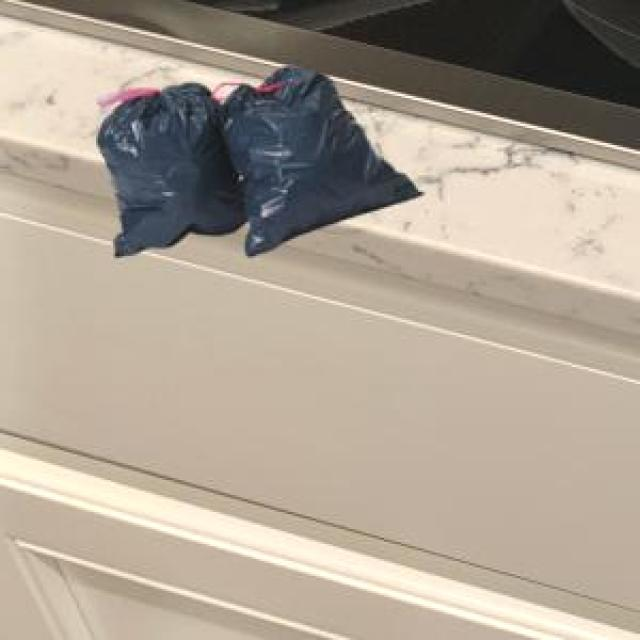Trashbag: (220, 64, 428, 260), (96, 78, 244, 262)
